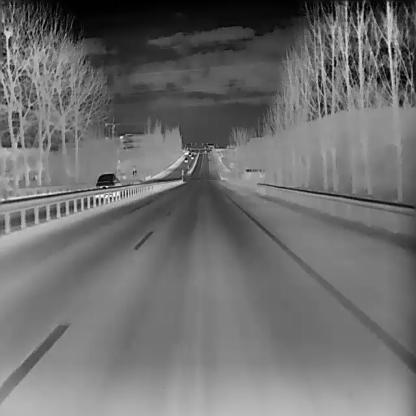car: (95, 172, 119, 188)
